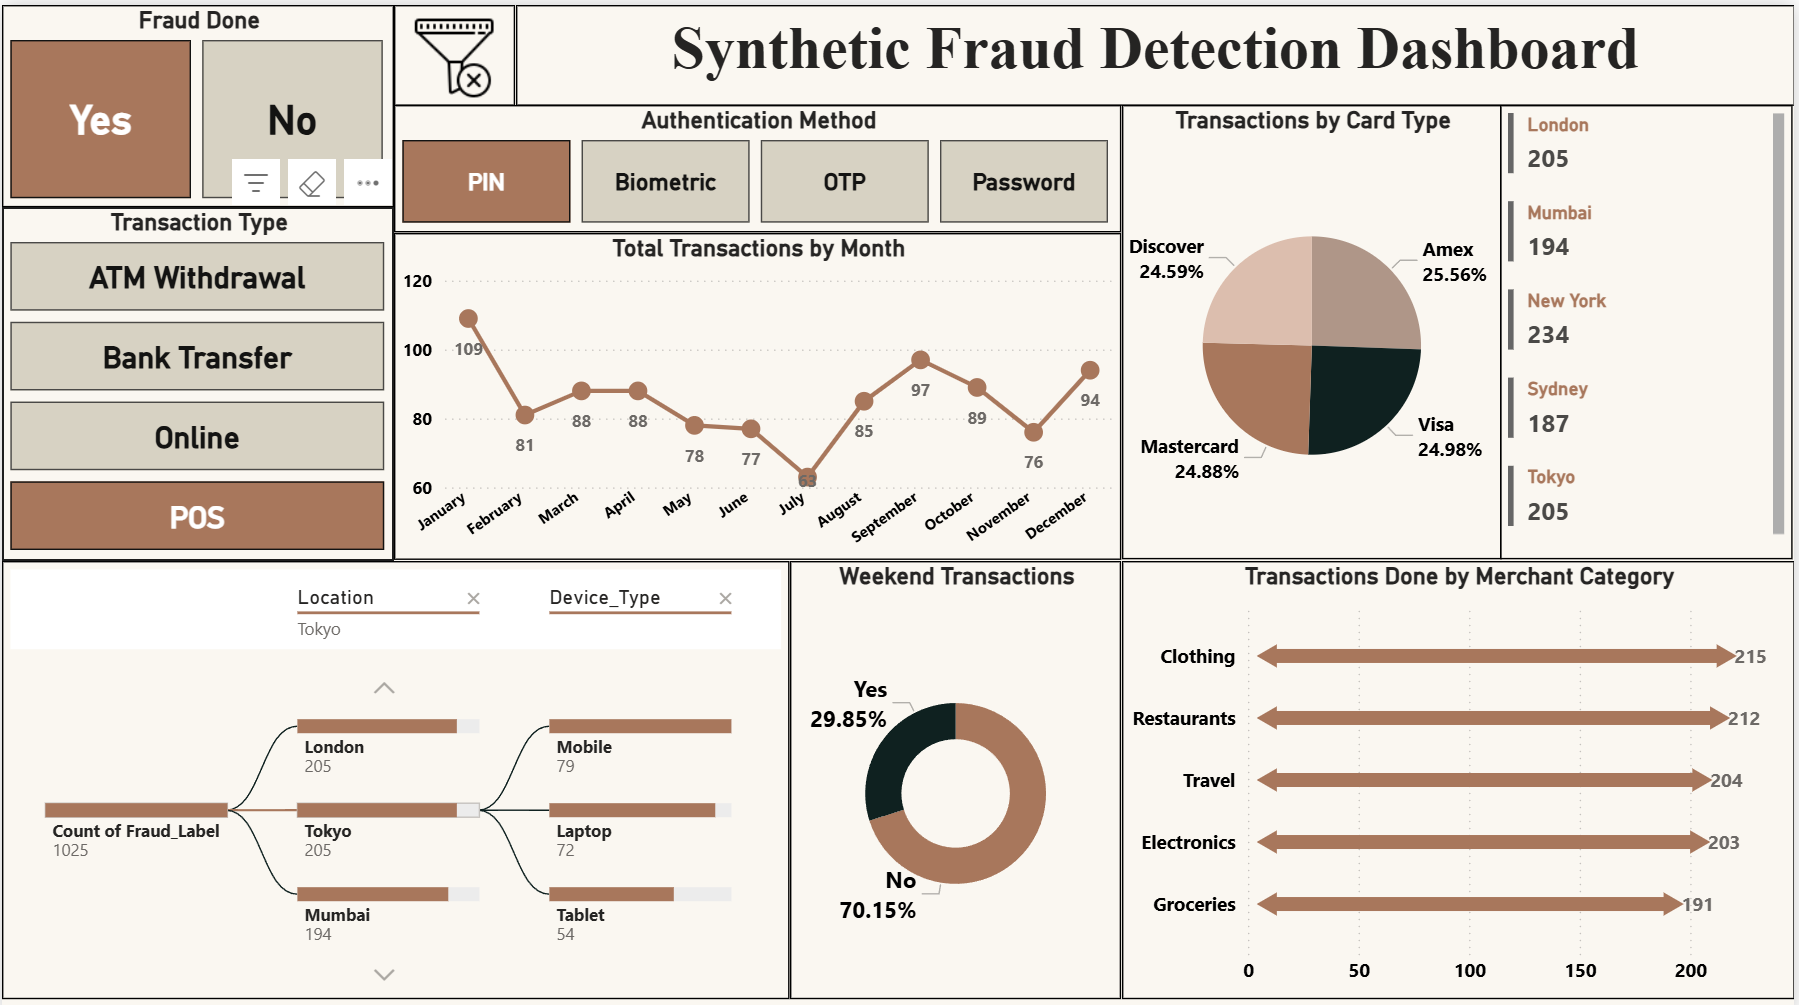

The page's visual inventory and layout, read from the dashboard file:
{"tool":"powerbi","page":{"name":"Page 2","canvas":[1280,720],"ordinal":1},"visuals":[{"type":"advancedSlicerVisual","fields":{"Values":["Synthetic Fraud Detection Data.Fraud Done"]},"box":[0,0,279.9,144.3],"z":0},{"type":"advancedSlicerVisual","title":"Transaction Type","fields":{"Values":["Synthetic Fraud Detection Data.Transaction_Type"]},"box":[0,144.3,279.9,252.5],"z":1000},{"type":"advancedSlicerVisual","title":"Authentication Method","fields":{"Values":["Synthetic Fraud Detection Data.Authentication_Method"]},"box":[279.9,72.1,519.4,90.9],"z":2000},{"type":"textbox","box":[366.7,0,913.3,71.9],"z":3000},{"type":"multiRowCard","fields":{"Values":["Synthetic Fraud Detection Data.Location","Synthetic Fraud Detection Data.Transaction_ID"]},"box":[1070.5,72.1,209.2,324.6],"z":4000},{"type":"lineChart","title":"Total Transactions by Month","fields":{"Category":["Synthetic Fraud Detection Data.Timestamp.Variation.Date Hierarchy.Month"],"Y":["CountNonNull(Synthetic Fraud Detection Data.Transaction_ID)"]},"box":[279.9,163,519.4,233.7],"z":5000},{"type":"decompositionTreeVisual","fields":{"Analyze":["CountNonNull(Synthetic Fraud Detection Data.Fraud_Label)"],"ExplainBy":["Synthetic Fraud Detection Data.Location","Synthetic Fraud Detection Data.Device_Type"]},"box":[0,396.8,562.7,313.1],"z":6000},{"type":"donutChart","title":"Weekend Transactions","fields":{"Category":["Synthetic Fraud Detection Data.Weekend"],"Y":["CountNonNull(Synthetic Fraud Detection Data.Transaction_ID)"]},"box":[562.7,396.8,236.6,313.1],"z":7000},{"type":"clusteredBarChart","title":"Transactions Done by Merchant Category","fields":{"Y":["CountNonNull(Synthetic Fraud Detection Data.Transaction_ID)"],"Category":["Synthetic Fraud Detection Data.Merchant_Category"]},"box":[799.3,396.8,480.4,313.1],"z":8000},{"type":"pieChart","title":"Transactions by Card Type","fields":{"Category":["Synthetic Fraud Detection Data.Card_Type"],"Y":["CountNonNull(Synthetic Fraud Detection Data.Transaction_ID)"]},"box":[799.3,72.1,271.2,324.6],"z":9000},{"type":"image","box":[280.4,0,86.3,71.9],"z":10001}]}

Visuals, with their boxes in screenshot pixels (x1, y1, x2, y2), scaled from the page's 1280x720 canvas onto the 1799x1005 screenshot:
advancedSlicerVisual - Synthetic Fraud Detection Data.Fraud Done: bbox=[0, 0, 393, 201]
"Transaction Type" advancedSlicerVisual: bbox=[0, 201, 393, 554]
"Authentication Method" advancedSlicerVisual: bbox=[393, 101, 1123, 228]
textbox: bbox=[515, 0, 1798, 100]
multiRowCard - Synthetic Fraud Detection Data.Location x Synthetic Fraud Detection Data.Transaction_ID: bbox=[1505, 101, 1798, 554]
"Total Transactions by Month" lineChart: bbox=[393, 228, 1123, 554]
decompositionTreeVisual - CountNonNull(Synthetic Fraud Detection Data.Fraud_Label) x Synthetic Fraud Detection Data.Location: bbox=[0, 554, 791, 991]
"Weekend Transactions" donutChart: bbox=[791, 554, 1123, 991]
"Transactions Done by Merchant Category" clusteredBarChart: bbox=[1123, 554, 1798, 991]
"Transactions by Card Type" pieChart: bbox=[1123, 101, 1505, 554]
image: bbox=[394, 0, 515, 100]
